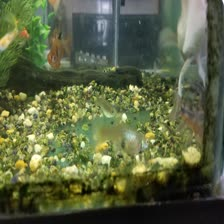Cuezo: (169, 0, 213, 92)
Guppy: (89, 115, 158, 159), (90, 88, 117, 122)
Kiros: (167, 86, 207, 145)
Transparente: (42, 28, 73, 72)
